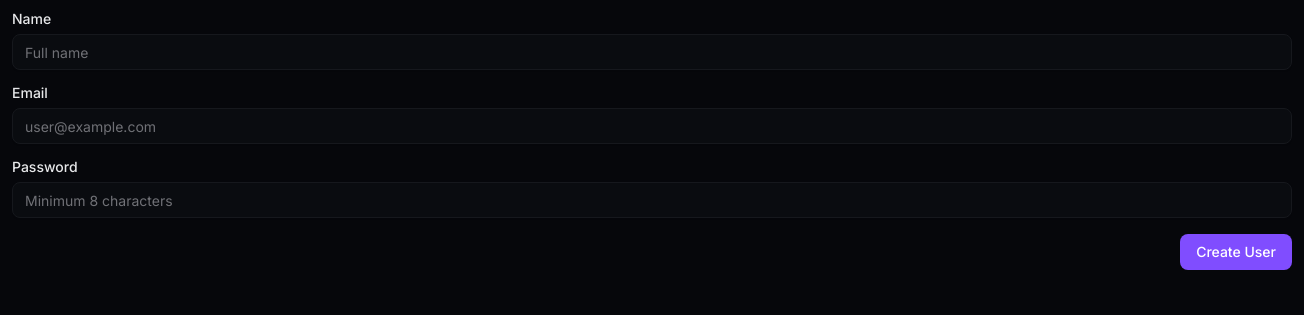
UserForm — create mode › should show validation error for short password
Type "John Doe" into the field labelled "Name" at (652, 52), box [12,34,1292,70]
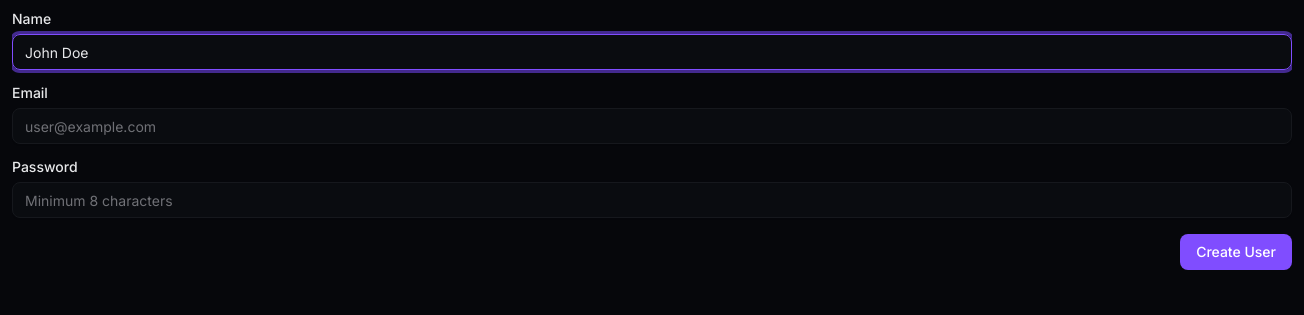
Type "john@example.com" into the field labelled "Email" at (652, 126), box [12,108,1292,144]
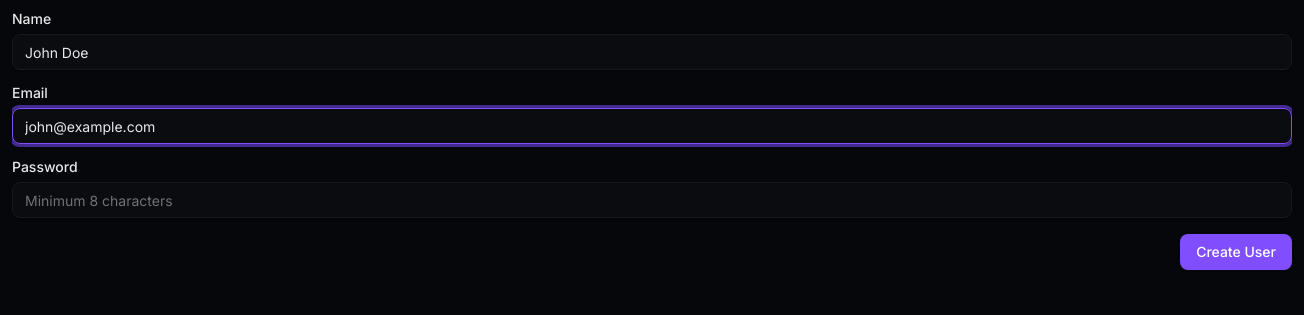
Type "short" into the password field labelled "Password" at (652, 200), box [12,182,1292,218]
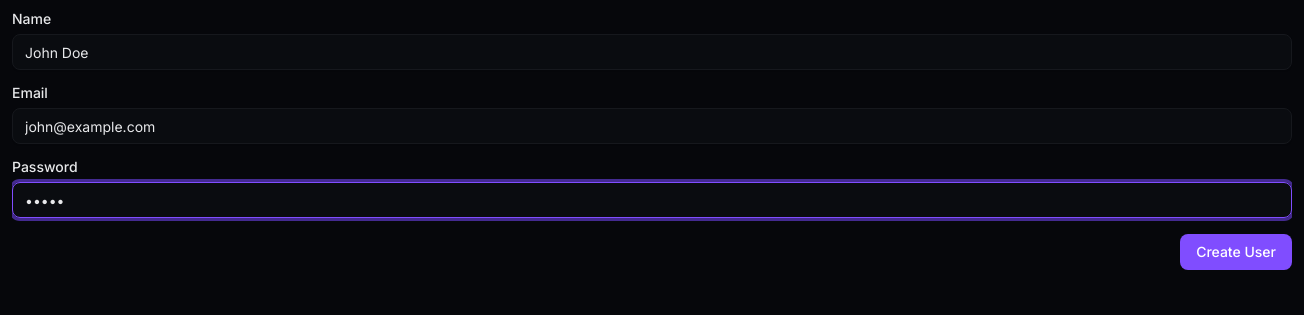
Click the button "Create User" at (1236, 252), box [1180,234,1292,270]
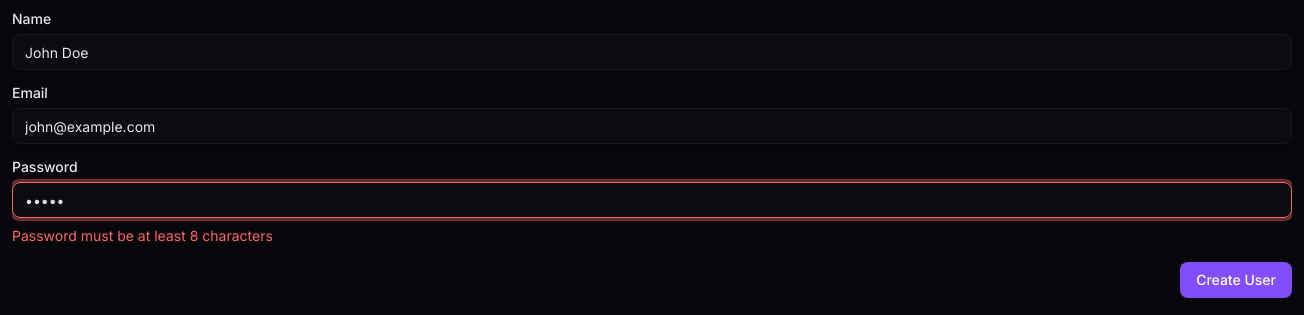
Check: the text "Password must be at least 8 characters" is shown, box [12,227,273,244]
